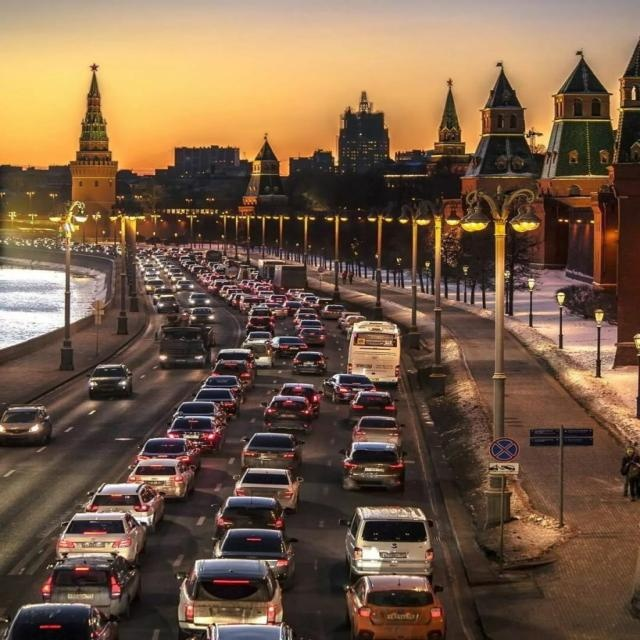Bus: (342, 319, 412, 388)
